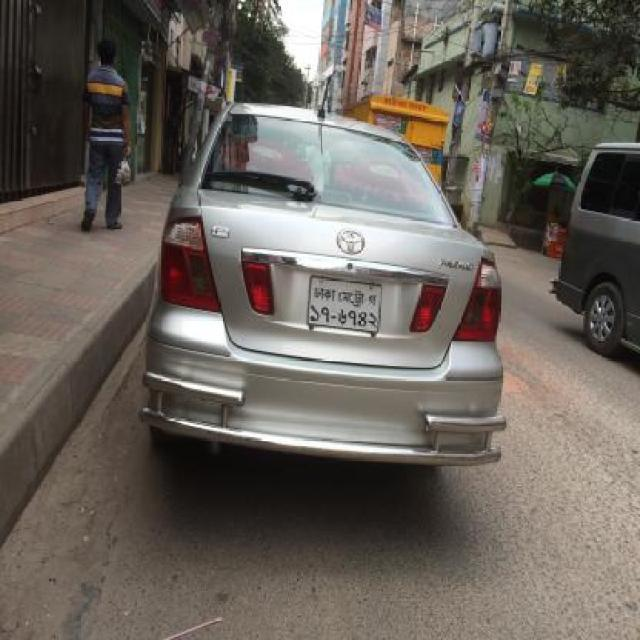numberplate: (305, 274, 382, 335)
